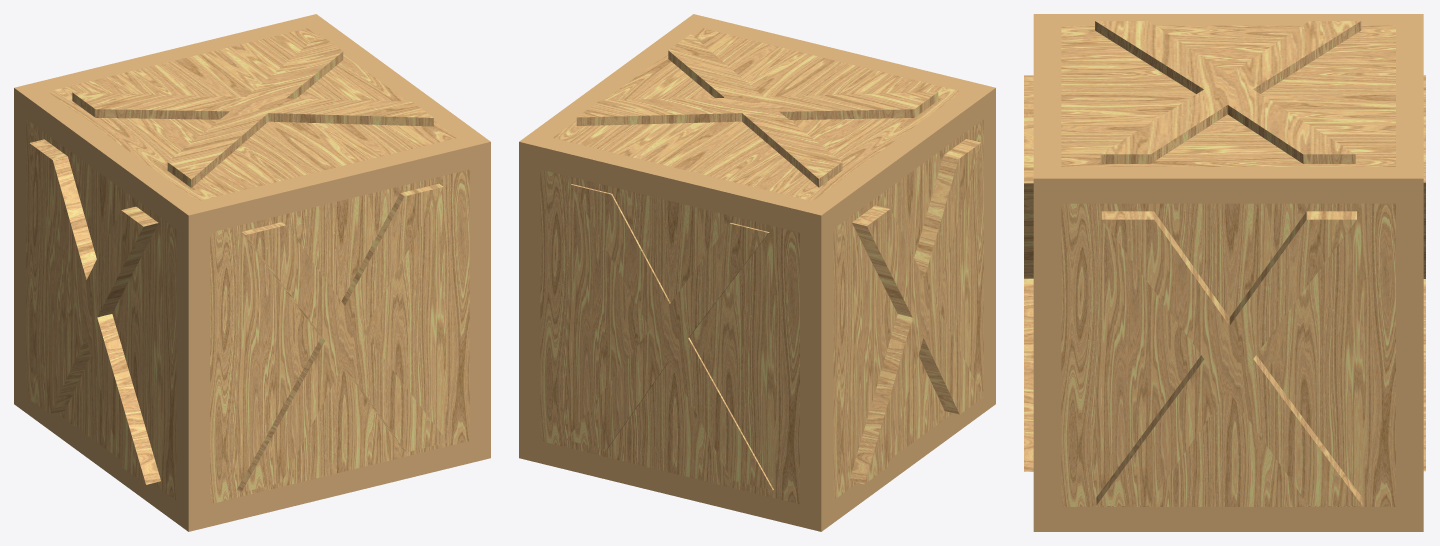
Rendered from Block X.fbx.
3 views of the same model, side by side, from view 1: azimuth 30°, elevation 25°; view 2: azimuth 150°, elevation 25°; view 3: azimuth 270°, elevation 25° (orthographic). The views are drawn at different scales.
Visible parts, largest first — view 1: Box, FRONT, LEFT, TOP; view 2: Box, BACK, LEFT, TOP; view 3: Box, RIGHT, TOP, FRONT, BACK.
Boxes of the visible parts, x1,y1,x2,y2 form: Box: (14, 14, 490, 531); FRONT: (237, 184, 447, 492); LEFT: (27, 139, 160, 484); TOP: (72, 34, 433, 187); Box: (519, 14, 995, 531); BACK: (566, 184, 773, 490); LEFT: (849, 139, 983, 484); TOP: (576, 34, 938, 187); Box: (1033, 14, 1423, 531); RIGHT: (1096, 211, 1362, 505); TOP: (1095, 21, 1361, 163); FRONT: (1024, 75, 1033, 471); BACK: (1423, 75, 1425, 471).
Size of the model in its own units: 1.1 by 1.04 by 1.03.
Materials: 2 (2 with a texture image).
